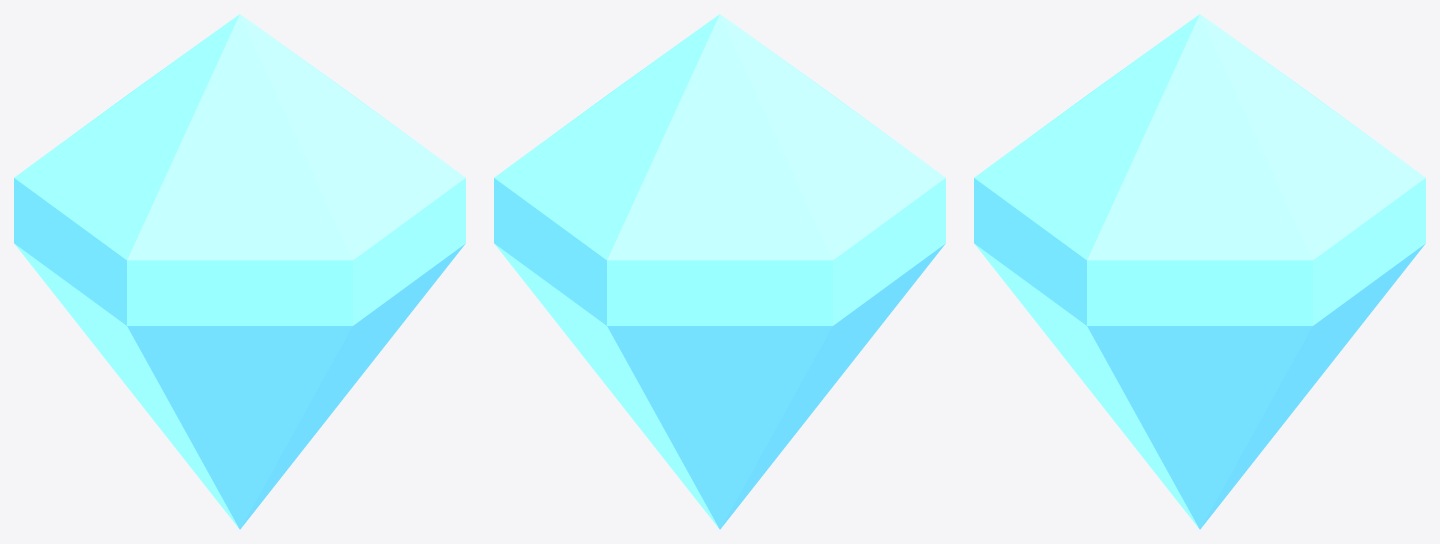
File: gem.glb
3 renders of one model, left to right at view 1: azimuth 30°, elevation 25°; view 2: azimuth 150°, elevation 25°; view 3: azimuth 270°, elevation 25°, orthographic.
Parts seen in each view (by area): view 1: gem; view 2: gem; view 3: gem.
Boxes of the visible parts, left/top/right/bottom form: gem: left=14, top=14, right=465, bottom=529; gem: left=494, top=14, right=945, bottom=529; gem: left=974, top=14, right=1425, bottom=529.
Bounding box in the file's own units: 0.433 × 0.63 × 0.5.
